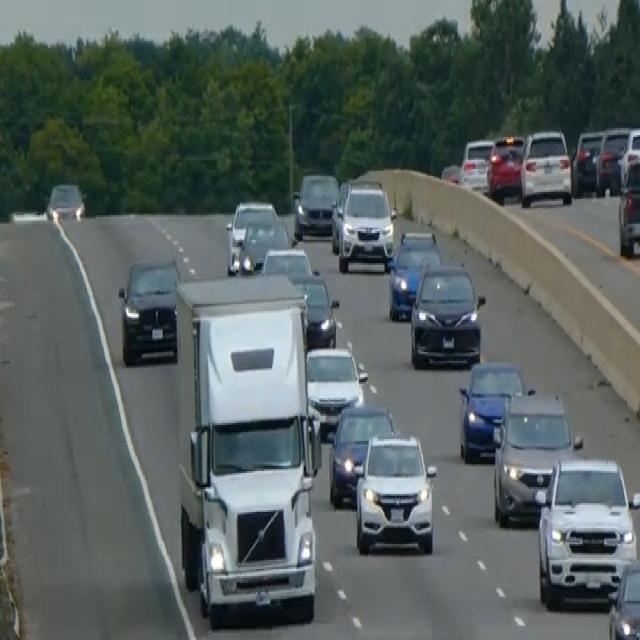car: (536, 453, 639, 610), (491, 388, 582, 526), (353, 430, 437, 555), (409, 261, 485, 368), (457, 358, 526, 462), (328, 400, 395, 507), (117, 254, 181, 366), (305, 343, 367, 436), (337, 178, 394, 272), (386, 228, 441, 320), (519, 126, 572, 206), (225, 197, 277, 272), (292, 270, 339, 347), (292, 169, 338, 240), (595, 124, 638, 196), (237, 215, 289, 274), (486, 131, 525, 201), (606, 558, 639, 638), (617, 156, 639, 258), (571, 128, 604, 194), (459, 135, 494, 190), (261, 244, 313, 279), (45, 180, 85, 222), (329, 180, 351, 252), (616, 126, 639, 190)
lorry: (172, 272, 322, 624)
